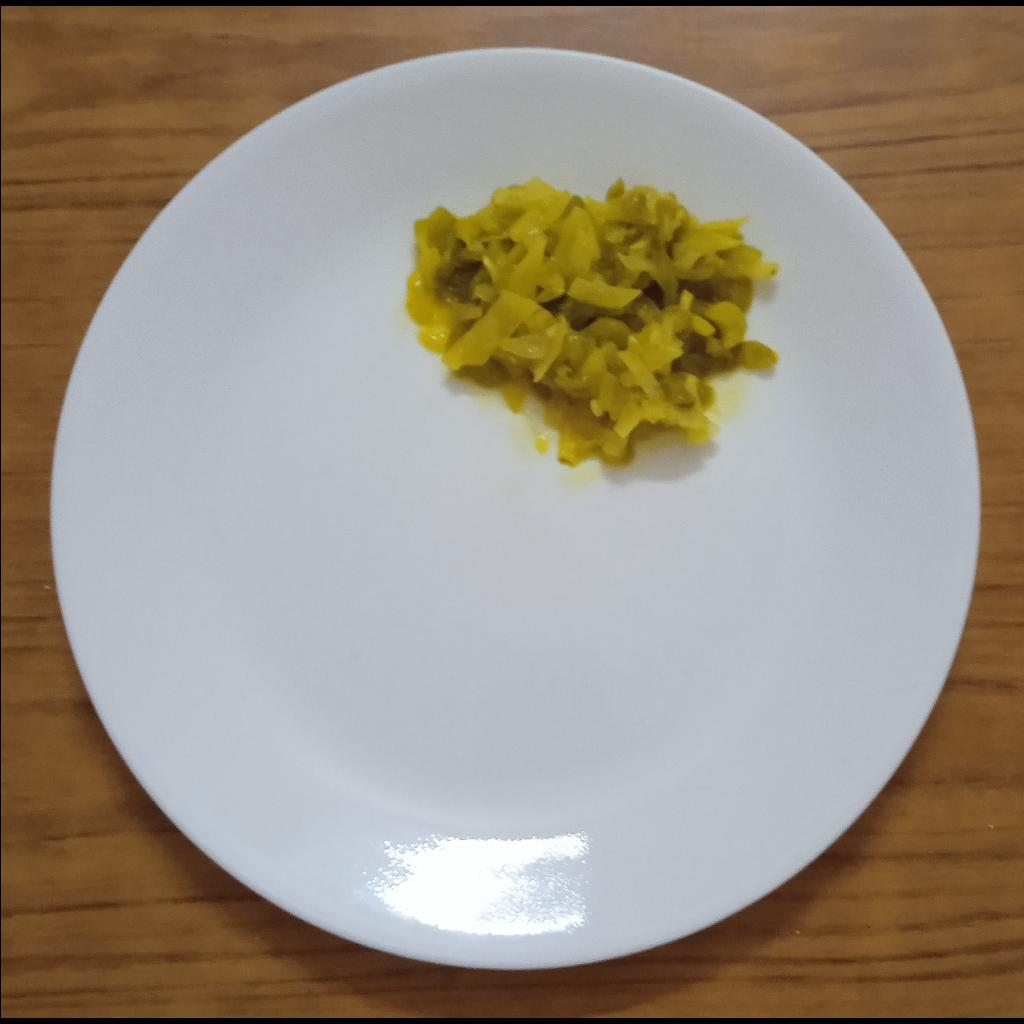vegetable: (403, 178, 783, 470)
